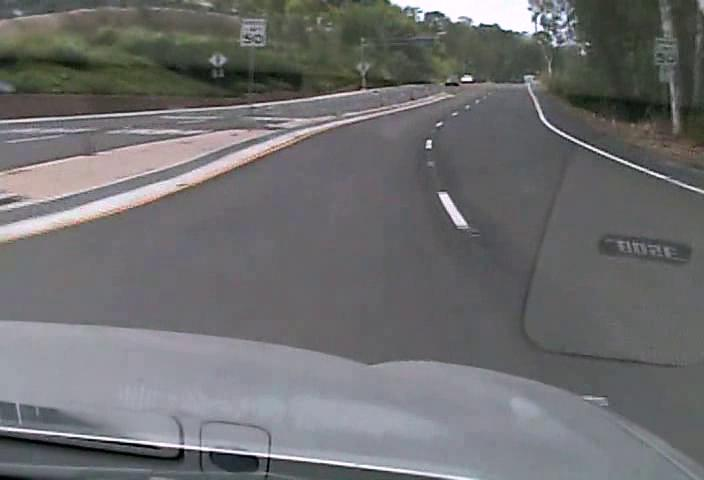speedLimit50: (238, 17, 266, 46)
